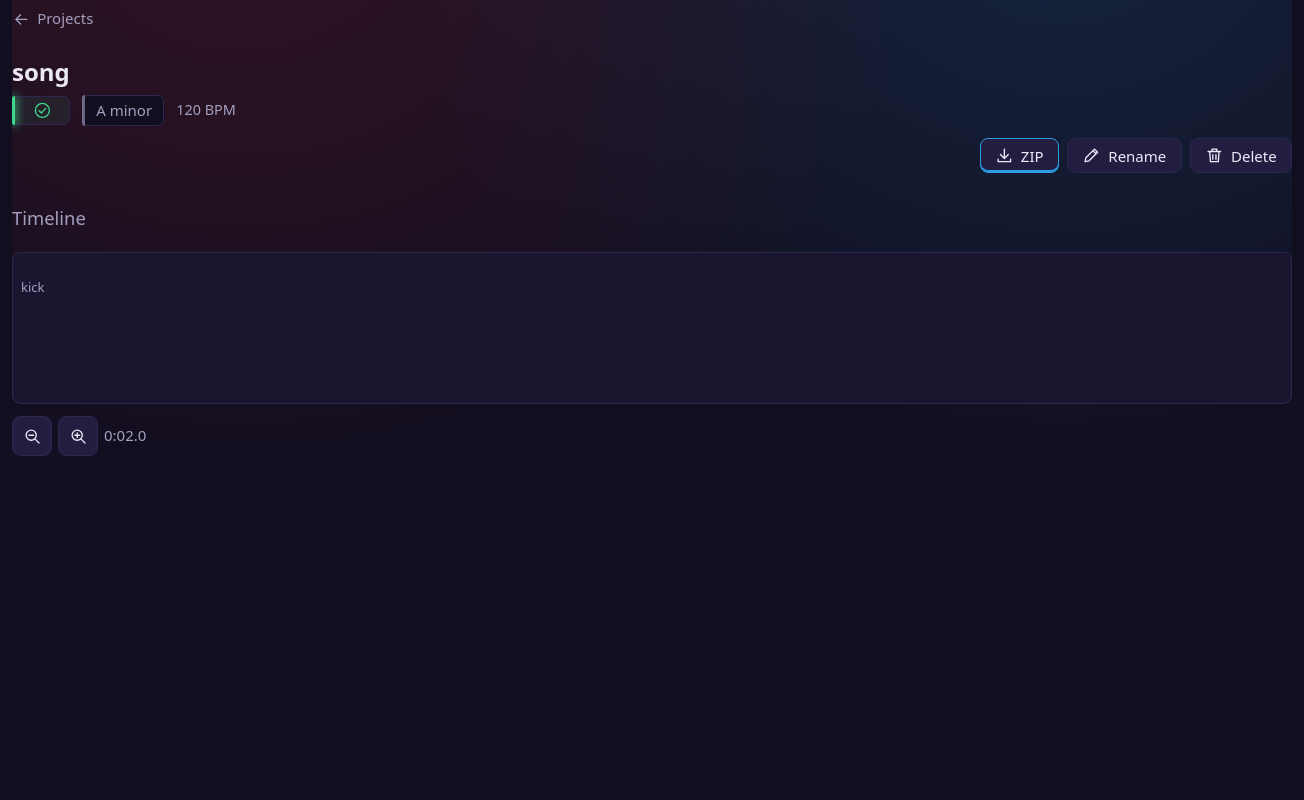
Test: Viewer › clears a stale error when the form is cancelled
Click the button "Rename": (1124, 156) [1067,138,1182,173]
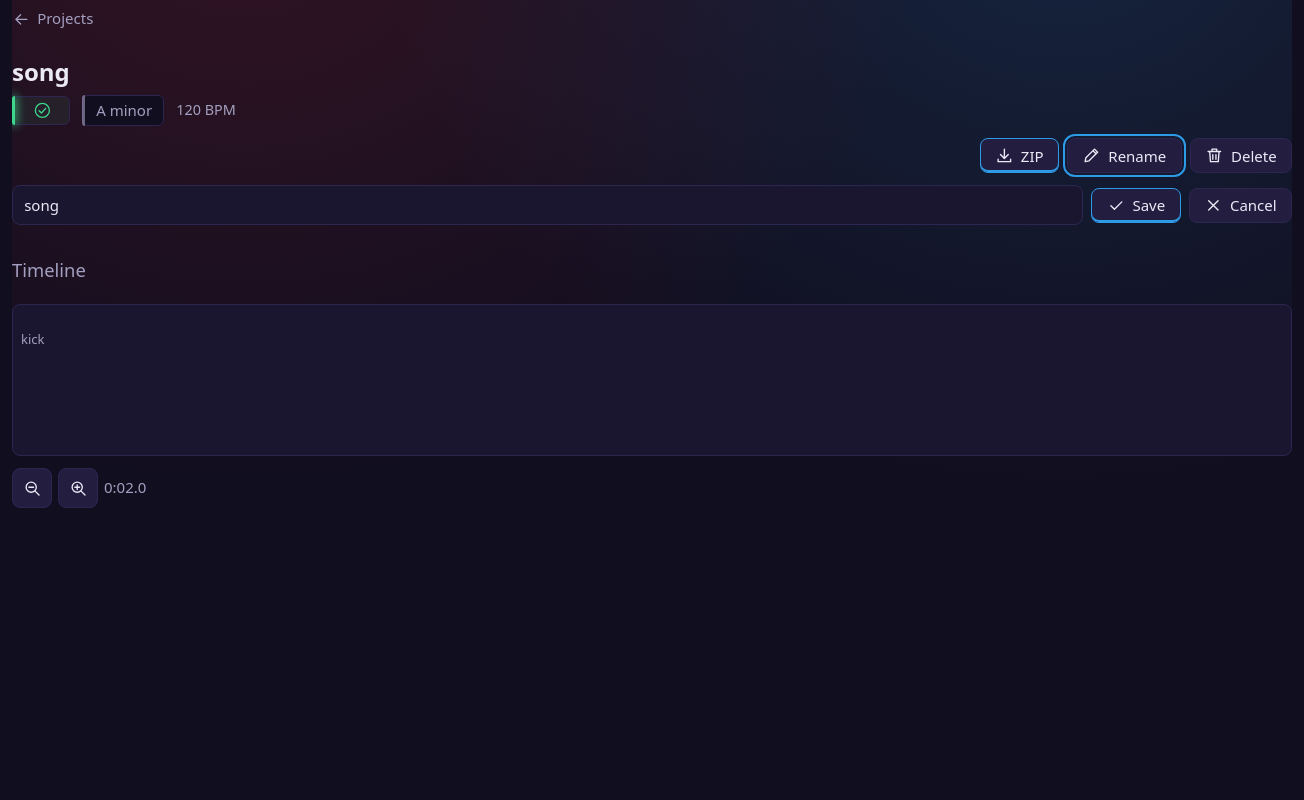
Replace the text in the field named "New name" with "tune": (548, 205) [12,185,1083,225]
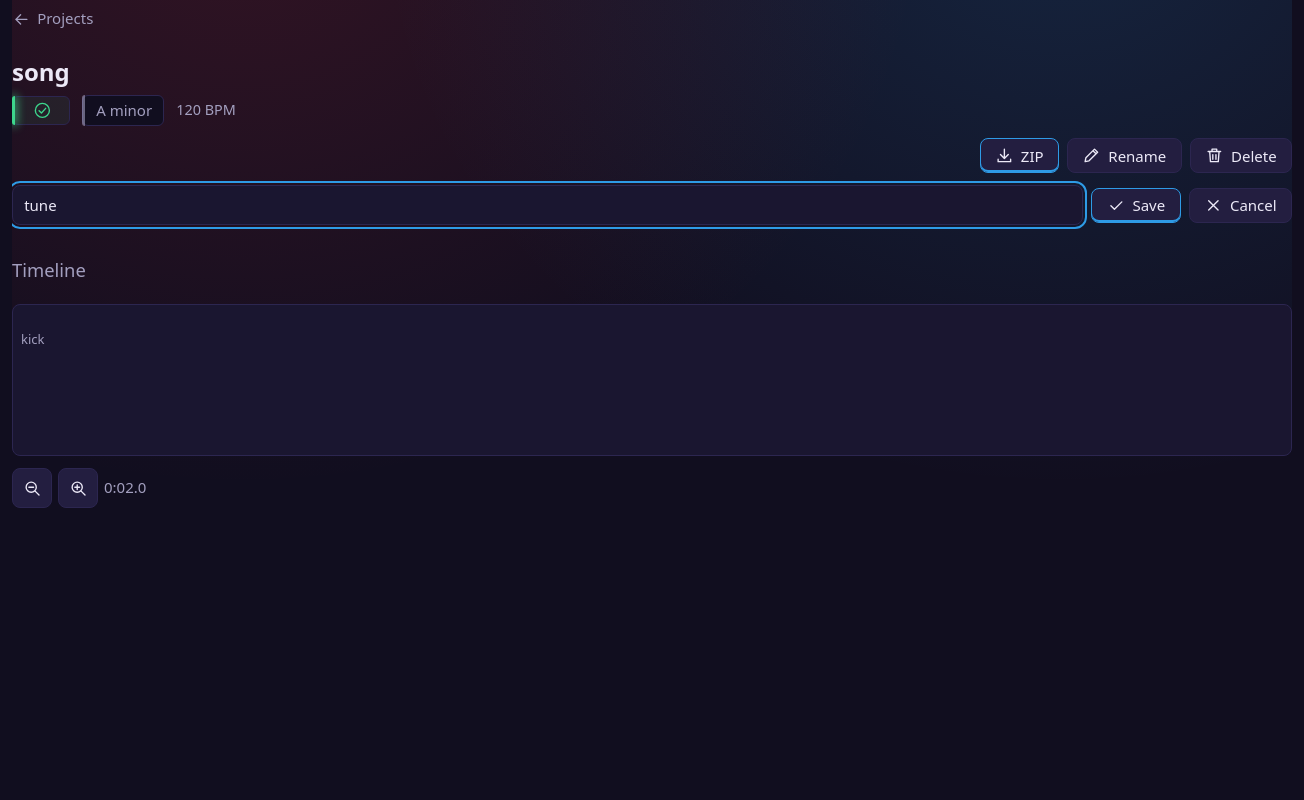
Click the button "Save": (1136, 205) [1091,188,1181,223]
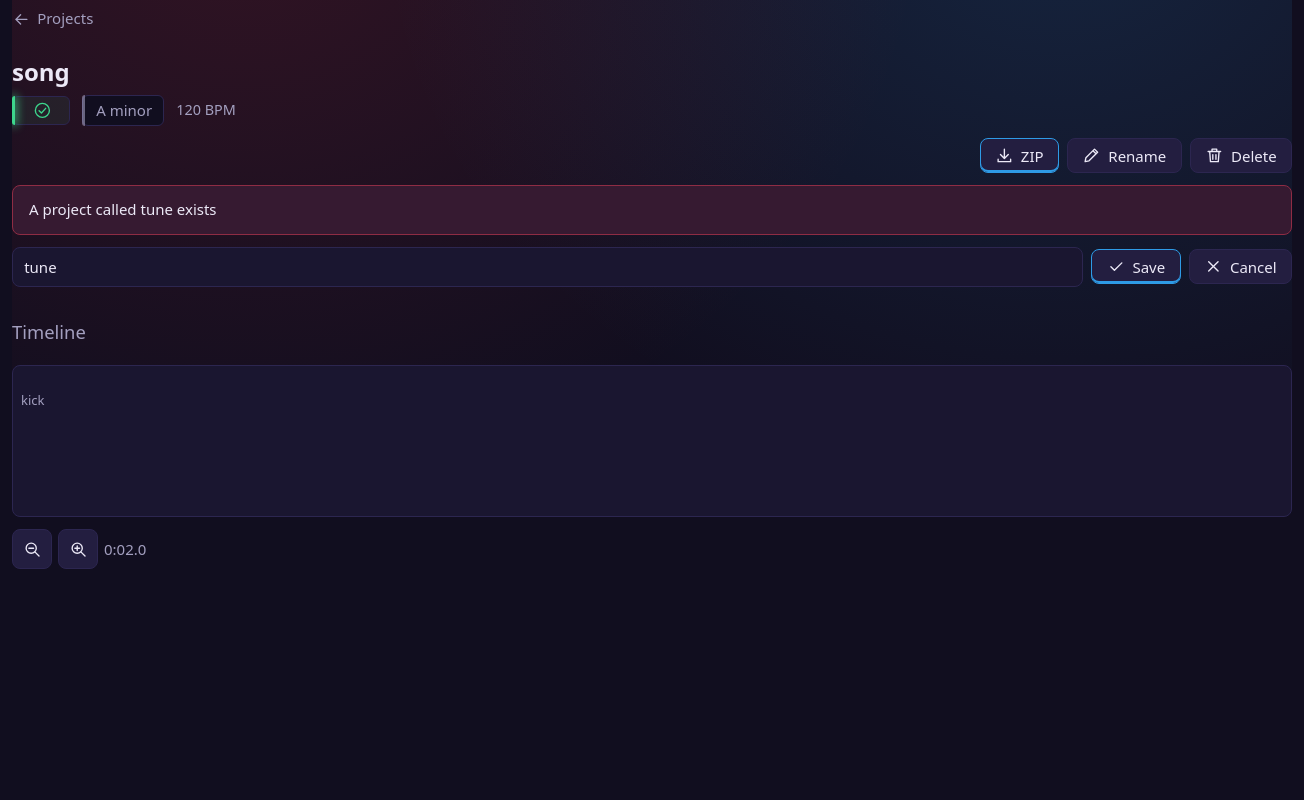
Expected: the message "A project called tune exists" is shown, [12,185,1292,235]
Click the button "Cancel": (1240, 267) [1189,249,1292,284]
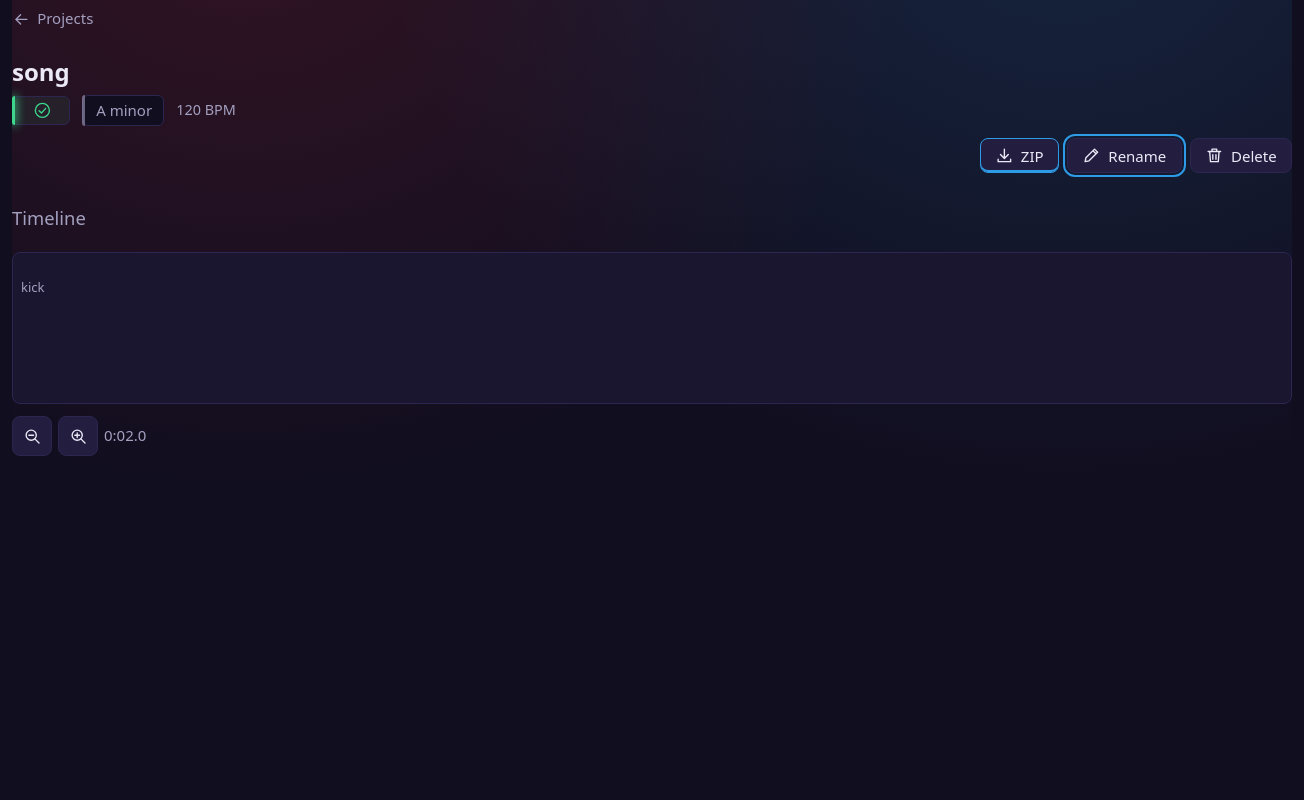
Expected: the message "A project called tune exists" is gone
